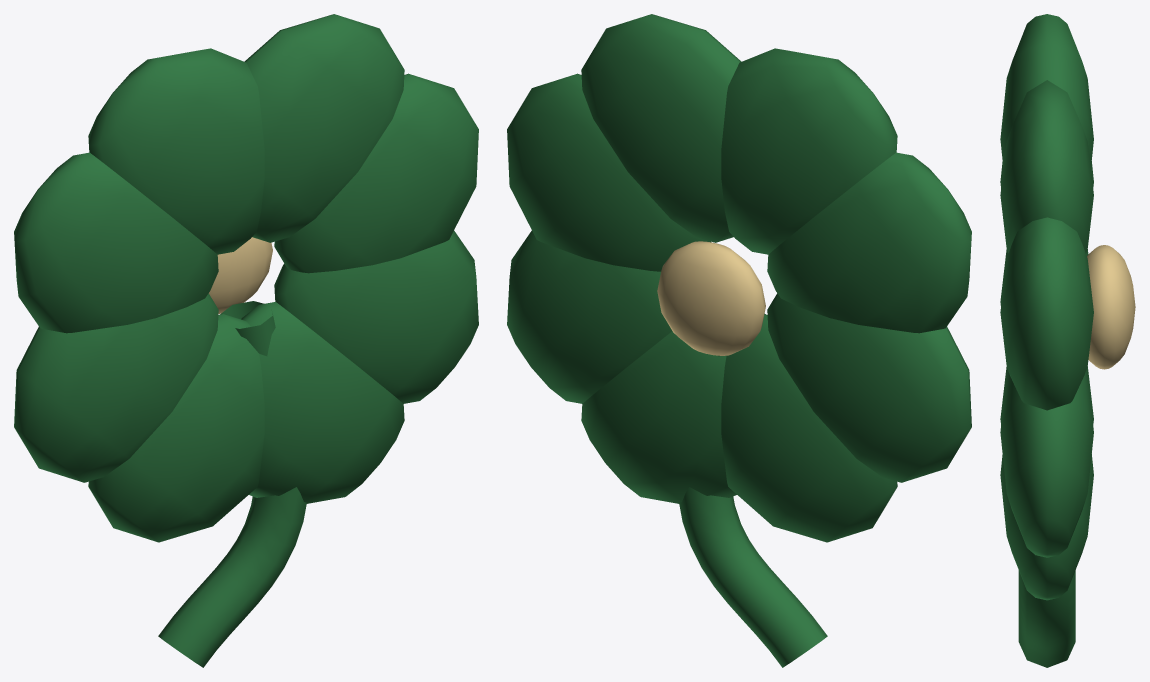
File: item-lucky-clover.glb
3 renders of one model, left to right at view 1: azimuth 30°, elevation 25°; view 2: azimuth 150°, elevation 25°; view 3: azimuth 270°, elevation 25°, orthographic. The views are drawn at different scales.
Parts seen in each view (by area): view 1: Item_lucky-clover_VertexPalette; view 2: Item_lucky-clover_VertexPalette; view 3: Item_lucky-clover_VertexPalette.
Part boxes in pixels (x1=…): Item_lucky-clover_VertexPalette: x1=14, y1=14, x2=478, y2=667; Item_lucky-clover_VertexPalette: x1=507, y1=14, x2=971, y2=667; Item_lucky-clover_VertexPalette: x1=1000, y1=14, x2=1135, y2=667.
Size of the model in its own units: 1.06 by 1.34 by 0.26.
